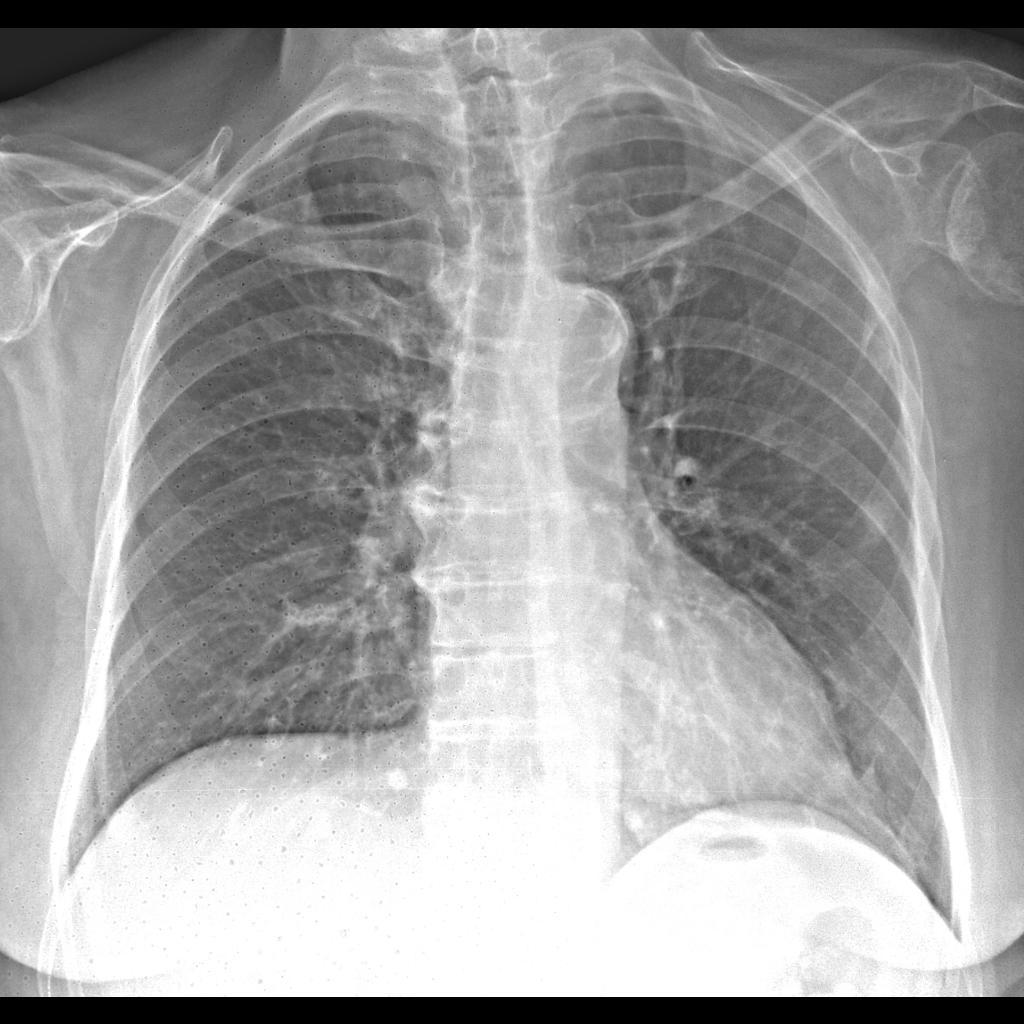Nodule: (846, 496, 899, 546)
